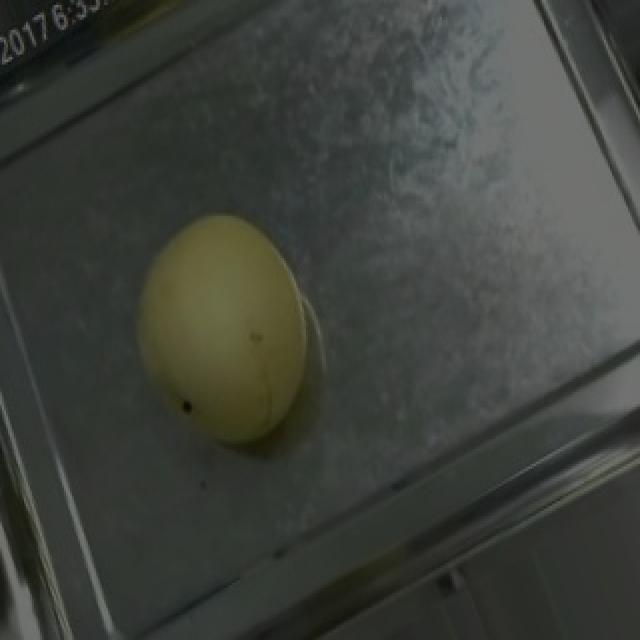Fruit: (92, 174, 356, 481)
